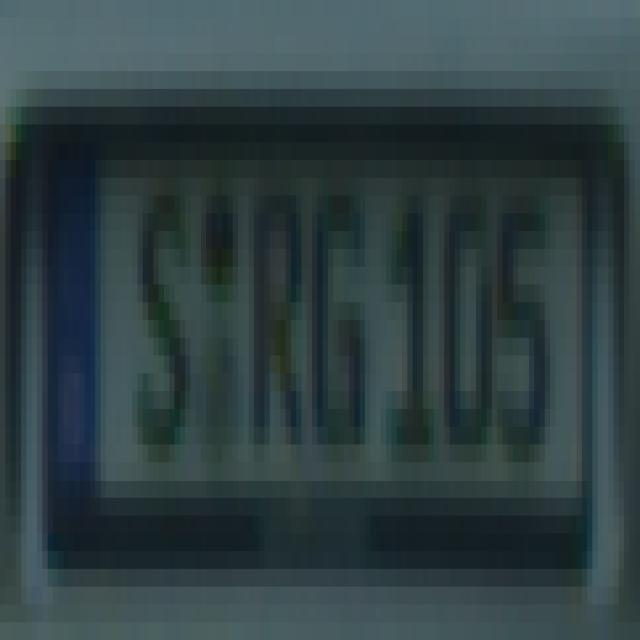Autre: (42, 116, 596, 595)
